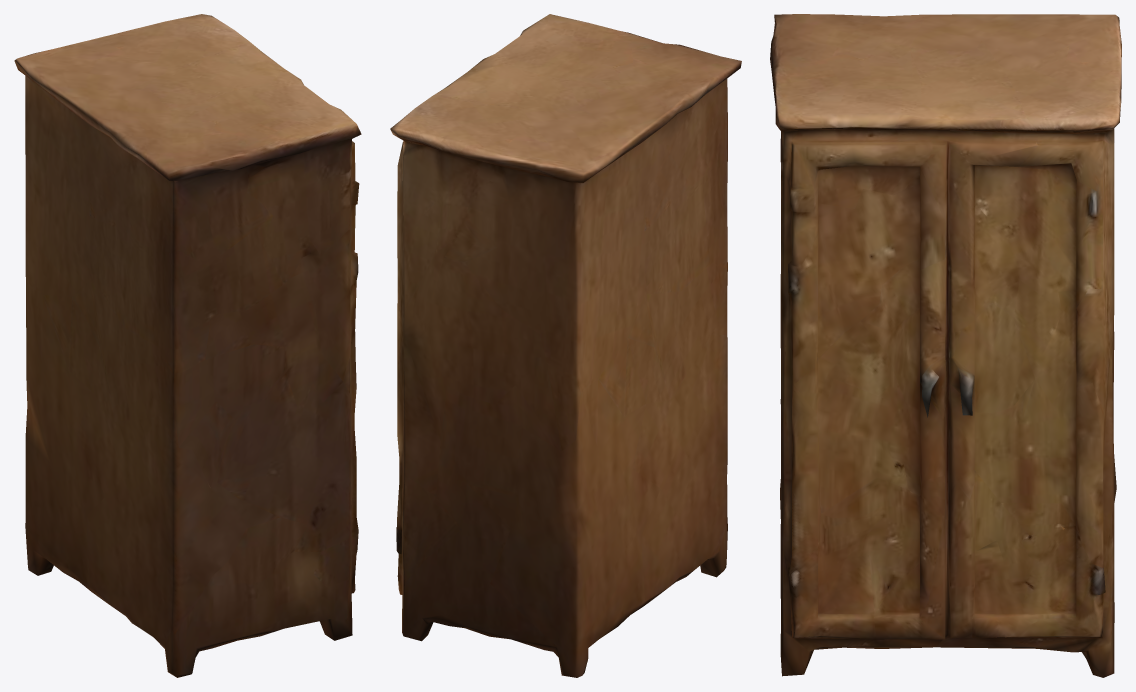
Rendered from e_wardrobe.glb.
3 views of the same model, side by side, from view 1: azimuth 30°, elevation 25°; view 2: azimuth 150°, elevation 25°; view 3: azimuth 270°, elevation 25° (orthographic). The views are drawn at different scales.
Parts seen in each view (by area): view 1: tripo_node_415ffd0a-af86-4cb9-8f42-8cd363dd1ace; view 2: tripo_node_415ffd0a-af86-4cb9-8f42-8cd363dd1ace; view 3: tripo_node_415ffd0a-af86-4cb9-8f42-8cd363dd1ace.
Boxes of the visible parts, x1,y1,x2,y2 form: tripo_node_415ffd0a-af86-4cb9-8f42-8cd363dd1ace: (14, 14, 361, 677); tripo_node_415ffd0a-af86-4cb9-8f42-8cd363dd1ace: (390, 14, 741, 677); tripo_node_415ffd0a-af86-4cb9-8f42-8cd363dd1ace: (770, 14, 1121, 677).
Size of the model in its own units: 0.4265 by 1 by 0.5639.
Materials: 1 (1 with a texture image).
